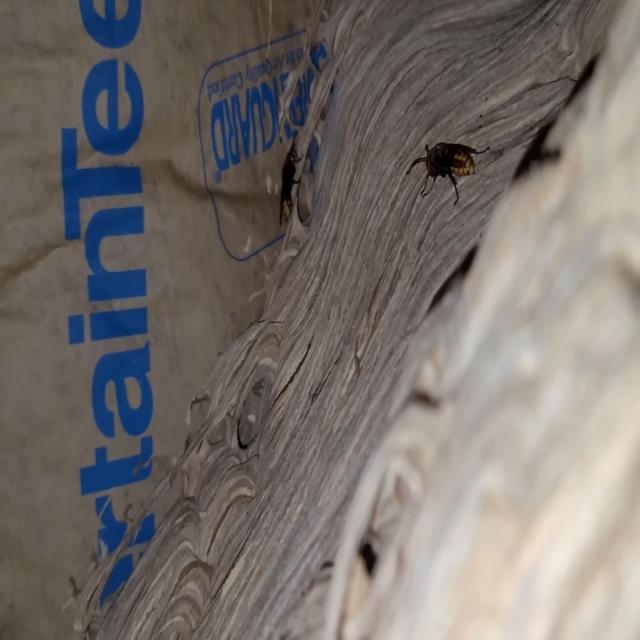Hornets: (407, 140, 491, 204), (275, 130, 306, 226)
